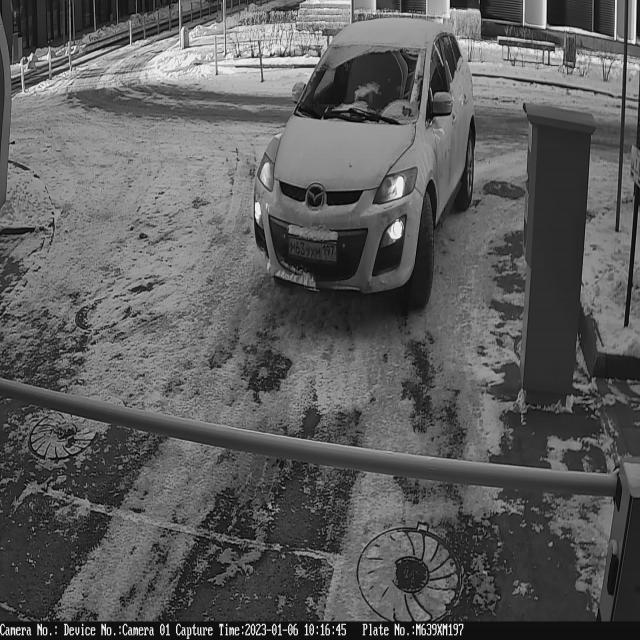car-plate-numbers: (286, 234, 341, 270)
